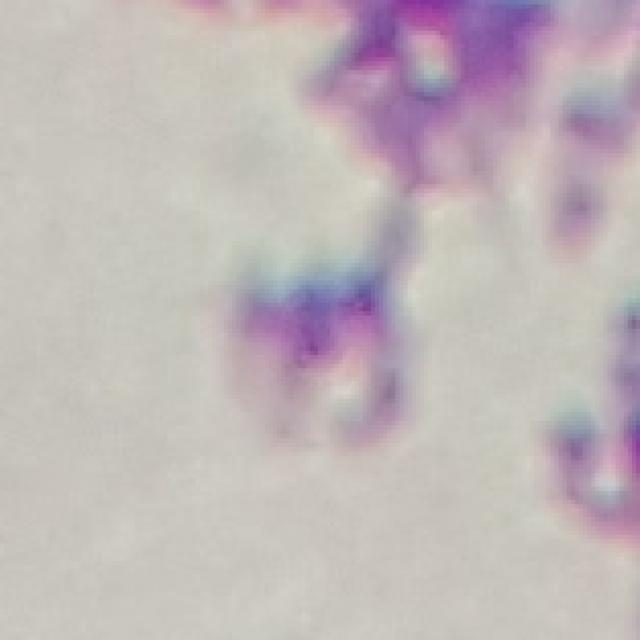non-sperm: (220, 259, 414, 454)
